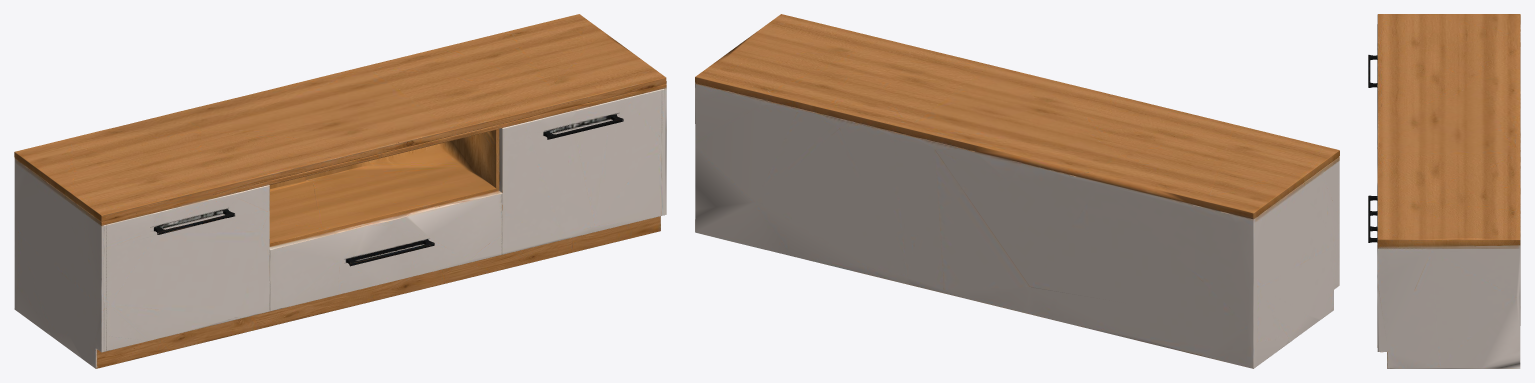
The model's file is media-console-oak.glb.
3 views of the same model, side by side, from view 1: azimuth 30°, elevation 25°; view 2: azimuth 150°, elevation 25°; view 3: azimuth 270°, elevation 25° (orthographic). The views are drawn at different scales.
Visible parts, largest first — view 1: Mesh_0; view 2: Mesh_0; view 3: Mesh_0.
Boxes of the visible parts, <box> form: Mesh_0: <box>14,14,666,368</box>; Mesh_0: <box>695,14,1339,368</box>; Mesh_0: <box>1368,14,1520,368</box>.
Size of the model in its own units: 1.8 by 0.4797 by 0.5111.
1 material, 1 textured.
